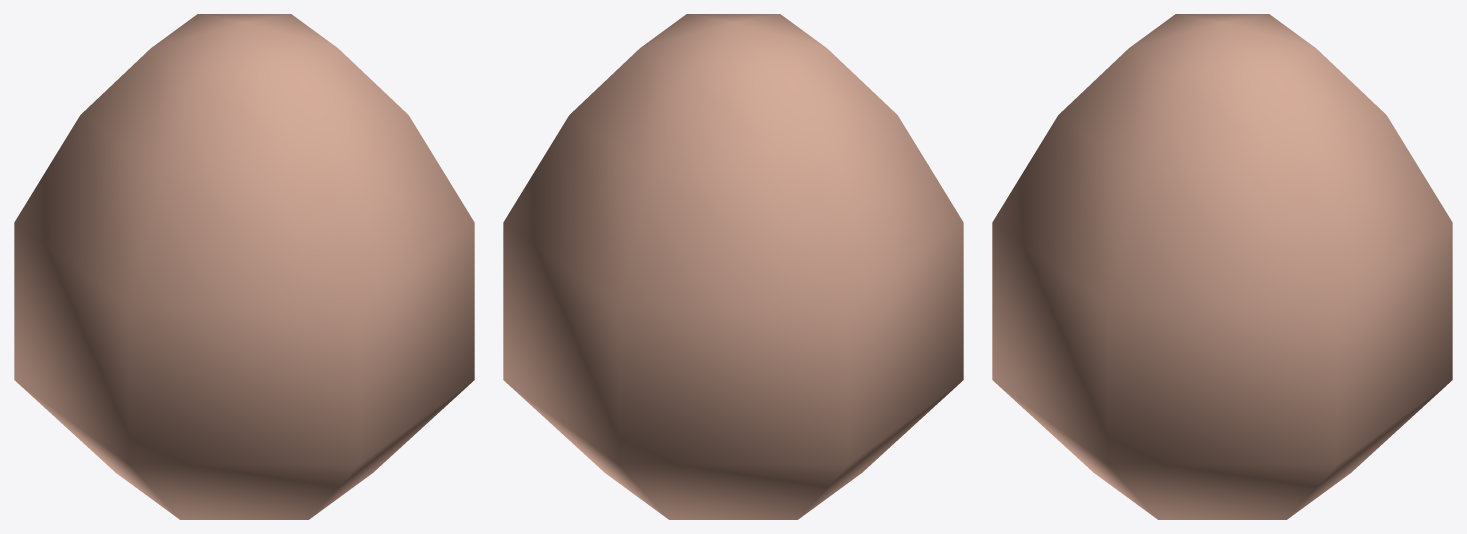
3 renders of one model, left to right at view 1: azimuth 30°, elevation 25°; view 2: azimuth 150°, elevation 25°; view 3: azimuth 270°, elevation 25°, orthographic.
Parts seen in each view (by area): view 1: Ei; view 2: Ei; view 3: Ei.
Part boxes in pixels (x1,y1,x2,y2): Ei: (14, 14, 474, 519); Ei: (503, 14, 963, 519); Ei: (992, 14, 1452, 519).
Bounding box in the file's own units: 0.0192 × 0.0256 × 0.0222.
